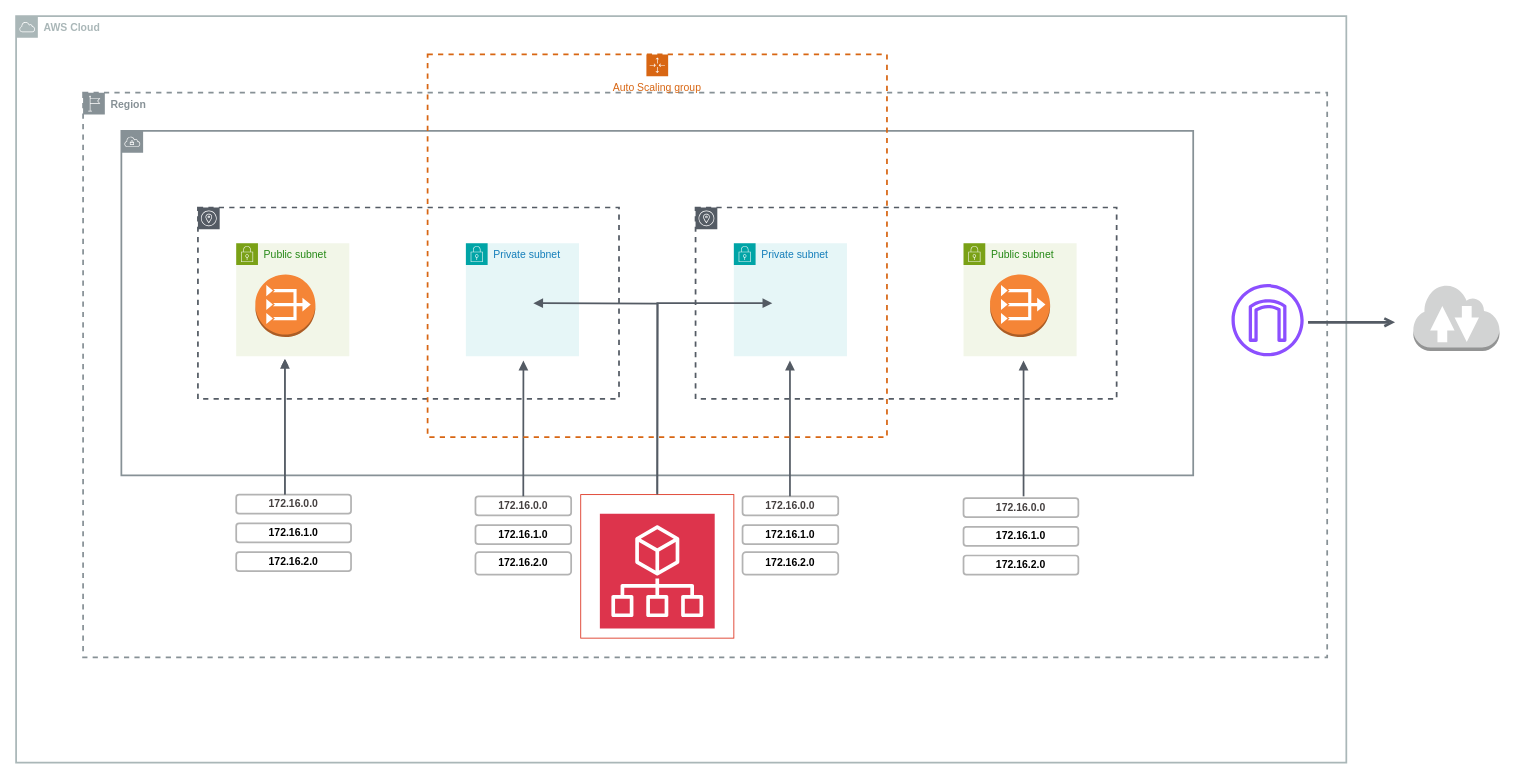
Some shapes in this 1515 by 778 pixel diagram are drawn without their labels. Here are the shapes that lost their labels. From the top down, the box of each, then its label:
(197, 206, 619, 399): Availability zone 1
(120, 130, 1194, 476): VPC
(694, 206, 1117, 399): Availability zone 2
(580, 494, 734, 638): Security group
